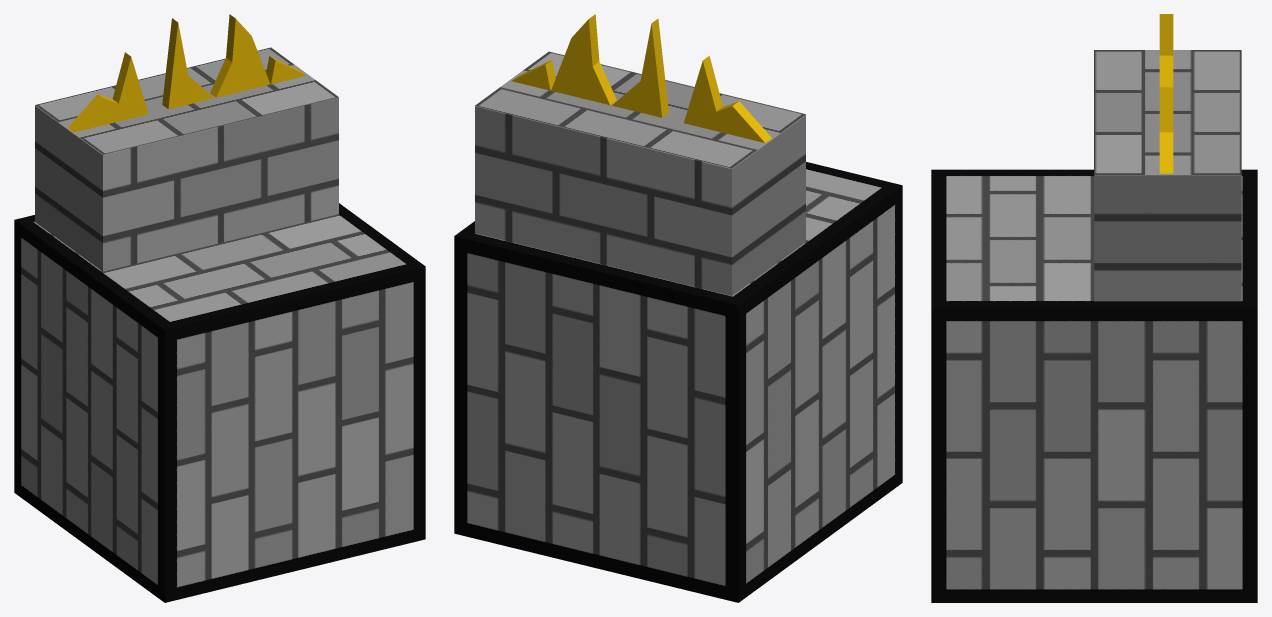
File: WallBrokenCrystalNorth.glb
3 renders of one model, left to right at view 1: azimuth 30°, elevation 25°; view 2: azimuth 150°, elevation 25°; view 3: azimuth 270°, elevation 25°, orthographic. The views are drawn at different scales.
Visible parts, largest first — view 1: StoneBricksBaked, StoneBricksBaked.001, BricksWall.South.Join.Baked_v2.001, Cube.001; view 2: StoneBricksBaked, StoneBricksBaked.001, BricksWall.South.Join.Baked_v2.001, Cube.001; view 3: StoneBricksBaked, StoneBricksBaked.001, BricksWall.South.Join.Baked_v2.001, Cube.001.
Boxes of the visible parts, box(x1,y1,x2,y2) form: StoneBricksBaked: box(14, 203, 425, 602); StoneBricksBaked.001: box(35, 97, 338, 271); BricksWall.South.Join.Baked_v2.001: box(35, 47, 338, 154); Cube.001: box(68, 14, 306, 132); StoneBricksBaked: box(454, 162, 902, 602); StoneBricksBaked.001: box(475, 106, 805, 295); BricksWall.South.Join.Baked_v2.001: box(475, 51, 805, 168); Cube.001: box(511, 14, 771, 142); StoneBricksBaked: box(931, 169, 1257, 602); StoneBricksBaked.001: box(1094, 175, 1241, 301); BricksWall.South.Join.Baked_v2.001: box(1094, 50, 1241, 174); Cube.001: box(1159, 14, 1173, 173).
Size of the model in its own units: 0.98 by 1.7 by 0.98.
4 materials, 3 textured.
